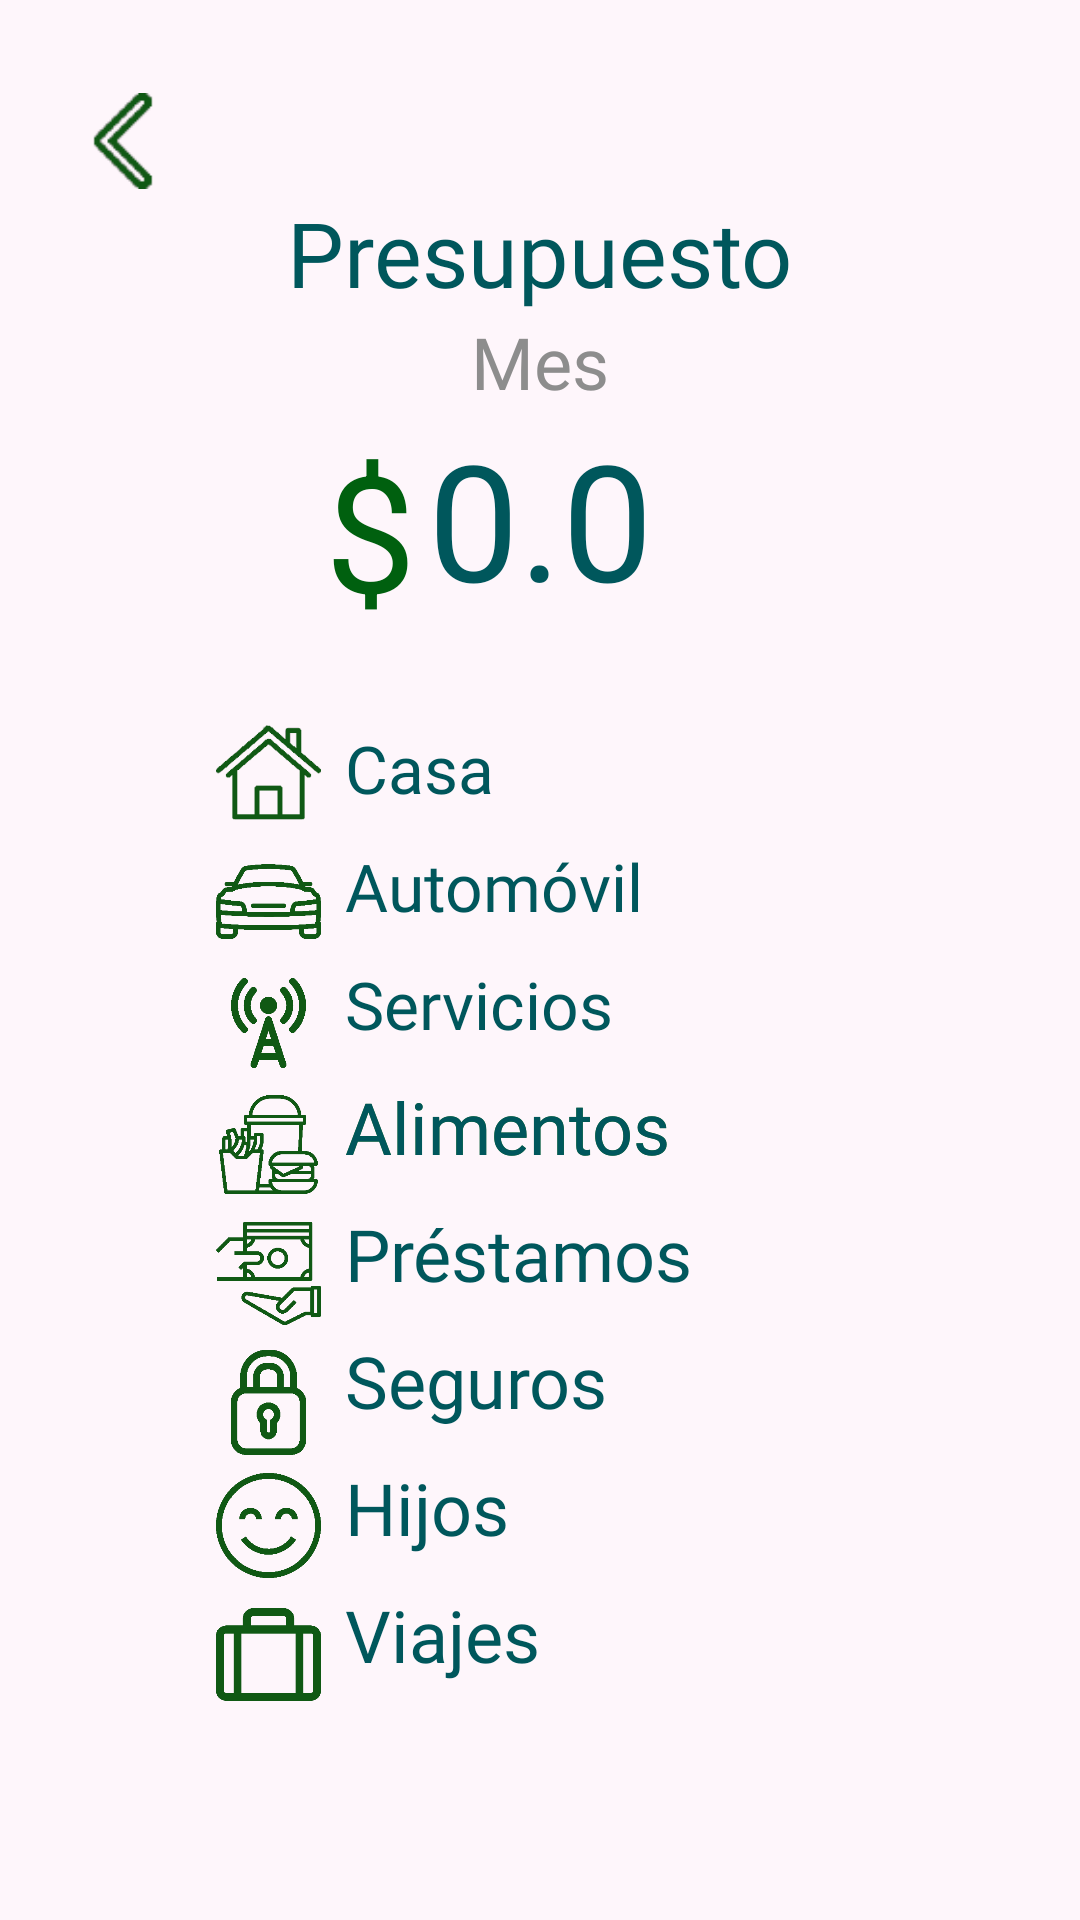

Icons on this 1080 × 1920 Android screen, each with its box as (x1, y1, x2, y2):
carfinal: (216, 864, 321, 939)
comida: (219, 1095, 318, 1194)
felicidadpng: (216, 1473, 321, 1578)
flecha: (93, 93, 153, 189)
prestamopng: (216, 1222, 321, 1325)
seguropng: (231, 1350, 306, 1455)
viajefinalpng: (216, 1608, 321, 1701)
